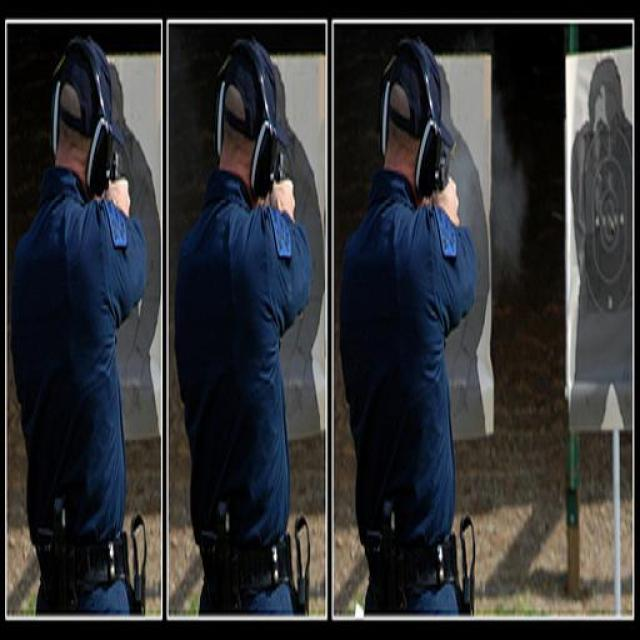pistol: (271, 137, 285, 186), (107, 144, 120, 184)
